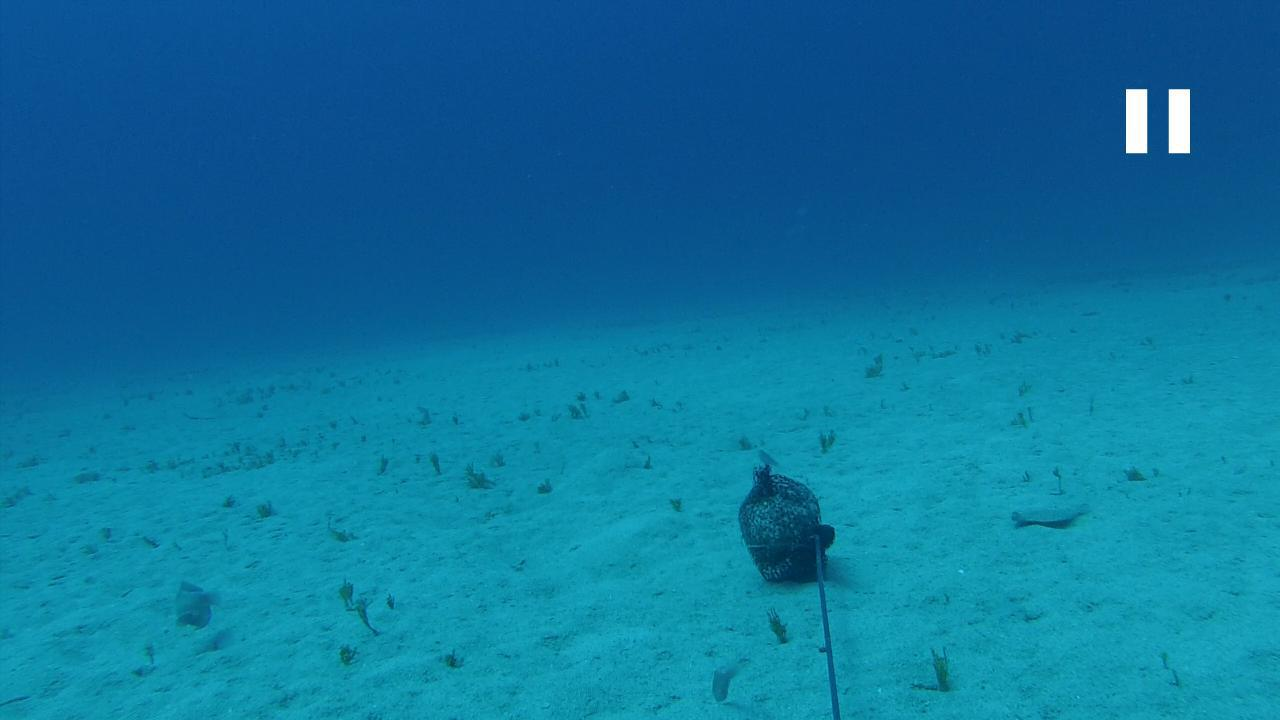bothus: (1006, 498, 1092, 531)
raor: (171, 580, 216, 629), (712, 656, 744, 704)
